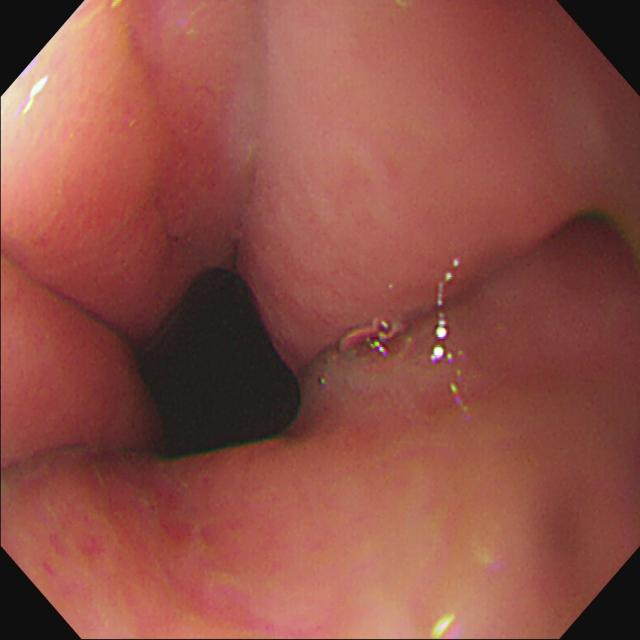A: (87, 51, 202, 259)
E: (140, 270, 302, 454)
T: (330, 314, 417, 371)
U: (431, 314, 455, 364)
